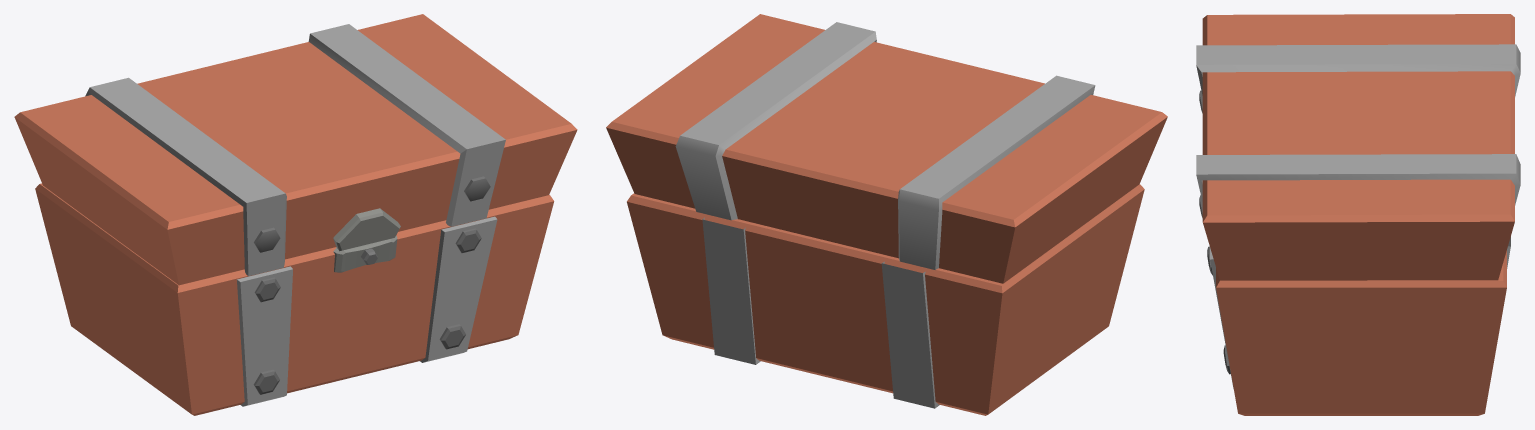
The model's file is ClosedChest.fbx.
3 views of the same model, side by side, from view 1: azimuth 30°, elevation 25°; view 2: azimuth 150°, elevation 25°; view 3: azimuth 270°, elevation 25° (orthographic). The views are drawn at different scales.
Visible parts, largest first — view 1: top1, bottom1; view 2: top1, bottom1; view 3: top1, bottom1.
Boxes of the visible parts, left/top/right/bottom form: top1: left=14, top=14, right=577, bottom=285; bottom1: left=35, top=183, right=554, bottom=415; top1: left=606, top=14, right=1167, bottom=283; bottom1: left=627, top=184, right=1144, bottom=415; top1: left=1196, top=14, right=1520, bottom=280; bottom1: left=1207, top=236, right=1510, bottom=415.
Bounding box in the file's own units: 101 × 53 × 67.71.
